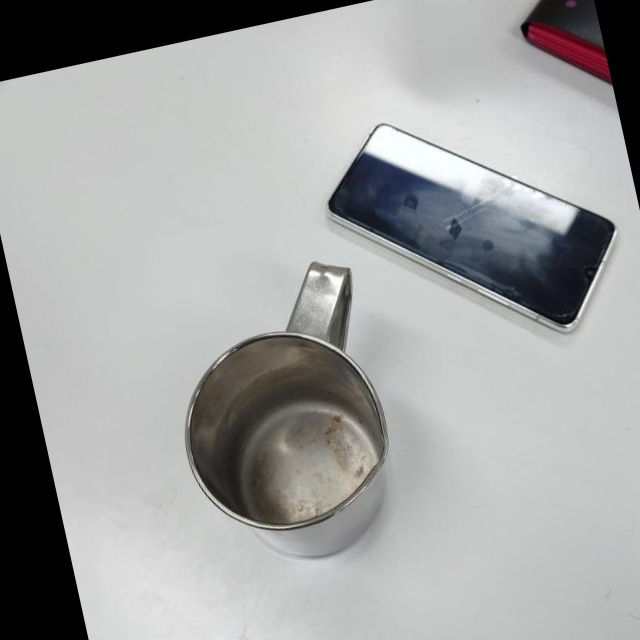cup: (148, 250, 417, 584)
phone: (312, 77, 636, 378)
